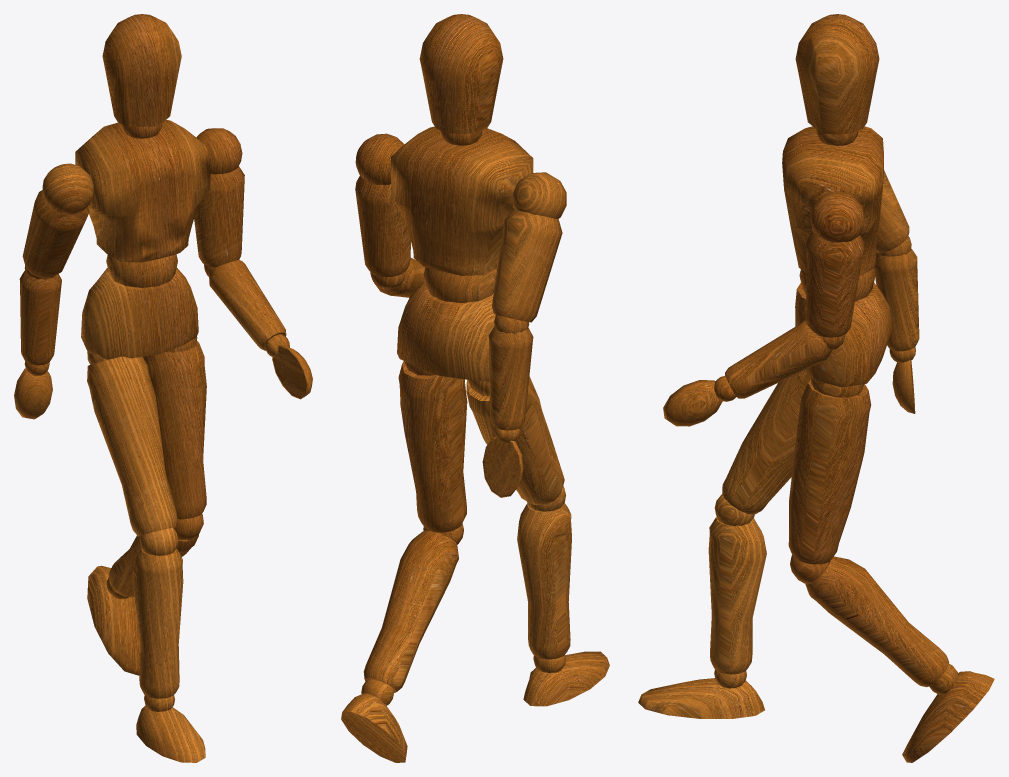
File: dummy_obj_8.obj
3 views of the same model, side by side, from view 1: azimuth 30°, elevation 25°; view 2: azimuth 150°, elevation 25°; view 3: azimuth 270°, elevation 25° (orthographic). The views are drawn at different scales.
Parts seen in each view (by area): view 1: dummy_hips3_dummy_belly_dummy_torso, dummy_hips3_dummy_lpelvis_dummy_lupleg, dummy_hips3, dummy_hips3_dummy_rpelvis_dummy_rupleg, dummy_hips3_dummy_belly_dummy_torso_dummy_neck_dummy_headq, dummy_hips3_dummy_lpelvis_dummy_lupleg_dummy_lknee_dummy_lleg, dummy_hips3_dummy_belly_dummy_torso_dummy_rshoulder_dummy_rarm, dummy_hips3_dummy_rpelvis_dummy_rupleg_dummy_rknee_dummy_rleg_d, dummy_hips3_dummy_belly_dummy_torso_dummy_rshoulder_dummy_r.001, dummy_hips3_dummy_belly_dummy_torso_dummy_lshoulder_dummy_larm, dummy_hips3_dummy_belly_dummy_torso_dummy_lshoulder_dummy_l.000, dummy_hips3_dummy_lpelvis_dummy_lupleg_dummy_lknee_dummy_ll.000 (+8 smaller); view 2: dummy_hips3_dummy_belly_dummy_torso, dummy_hips3_dummy_rpelvis_dummy_rupleg, dummy_hips3_dummy_belly_dummy_torso_dummy_neck_dummy_headq, dummy_hips3_dummy_rpelvis_dummy_rupleg_dummy_rknee_dummy_rleg, dummy_hips3, dummy_hips3_dummy_lpelvis_dummy_lupleg_dummy_lknee_dummy_lleg, dummy_hips3_dummy_belly_dummy_torso_dummy_lshoulder_dummy_larm, dummy_hips3_dummy_lpelvis_dummy_lupleg, dummy_hips3_dummy_belly_dummy_torso_dummy_rshoulder_dummy_rarm, dummy_hips3_dummy_belly_dummy_torso_dummy_lshoulder_dummy_l.000, dummy_hips3_dummy_lpelvis_dummy_lupleg_dummy_lknee_dummy_ll.000, dummy_hips3_dummy_rpelvis_dummy_rupleg_dummy_rknee_dummy_rleg_d (+7 smaller); view 3: dummy_hips3_dummy_rpelvis_dummy_rupleg, dummy_hips3_dummy_belly_dummy_torso, dummy_hips3_dummy_belly_dummy_torso_dummy_neck_dummy_headq, dummy_hips3_dummy_rpelvis_dummy_rupleg_dummy_rknee_dummy_rleg, dummy_hips3_dummy_lpelvis_dummy_lupleg_dummy_lknee_dummy_lleg, dummy_hips3_dummy_lpelvis_dummy_lupleg, dummy_hips3_dummy_belly_dummy_torso_dummy_rshoulder_dummy_rarm, dummy_hips3, dummy_hips3_dummy_belly_dummy_torso_dummy_rshoulder_dummy_r.001, dummy_hips3_dummy_lpelvis_dummy_lupleg_dummy_lknee_dummy_ll.000, dummy_hips3_dummy_rpelvis_dummy_rupleg_dummy_rknee_dummy_rleg_d, dummy_hips3_dummy_belly_dummy_torso_dummy_lshoulder_dummy_l.000 (+6 smaller).
Boxes of the visible parts, <box> form: dummy_hips3_dummy_belly_dummy_torso: <box>75,119,210,262</box>; dummy_hips3_dummy_lpelvis_dummy_lupleg: <box>87,356,177,536</box>; dummy_hips3: <box>81,267,198,359</box>; dummy_hips3_dummy_rpelvis_dummy_rupleg: <box>143,341,206,519</box>; dummy_hips3_dummy_belly_dummy_torso_dummy_neck_dummy_headq: <box>102,14,181,126</box>; dummy_hips3_dummy_lpelvis_dummy_lupleg_dummy_lknee_dummy_lleg: <box>132,548,183,698</box>; dummy_hips3_dummy_belly_dummy_torso_dummy_rshoulder_dummy_rarm: <box>194,166,244,267</box>; dummy_hips3_dummy_rpelvis_dummy_rupleg_dummy_rknee_dummy_rleg_d: <box>87,565,139,675</box>; dummy_hips3_dummy_belly_dummy_torso_dummy_rshoulder_dummy_r.001: <box>209,260,286,350</box>; dummy_hips3_dummy_belly_dummy_torso_dummy_lshoulder_dummy_larm: <box>22,190,89,278</box>; dummy_hips3_dummy_belly_dummy_torso_dummy_lshoulder_dummy_l.000: <box>19,270,61,365</box>; dummy_hips3_dummy_lpelvis_dummy_lupleg_dummy_lknee_dummy_ll.000: <box>136,705,205,762</box>; dummy_hips3_dummy_belly_dummy_torso: <box>391,126,533,275</box>; dummy_hips3_dummy_rpelvis_dummy_rupleg: <box>398,361,467,532</box>; dummy_hips3_dummy_belly_dummy_torso_dummy_neck_dummy_headq: <box>419,14,503,134</box>; dummy_hips3_dummy_rpelvis_dummy_rupleg_dummy_rknee_dummy_rleg: <box>363,530,458,692</box>; dummy_hips3: <box>397,281,495,381</box>; dummy_hips3_dummy_lpelvis_dummy_lupleg_dummy_lknee_dummy_lleg: <box>517,503,571,659</box>; dummy_hips3_dummy_belly_dummy_torso_dummy_lshoulder_dummy_larm: <box>492,209,562,322</box>; dummy_hips3_dummy_lpelvis_dummy_lupleg: <box>466,376,564,504</box>; dummy_hips3_dummy_belly_dummy_torso_dummy_rshoulder_dummy_rarm: <box>355,176,410,276</box>; dummy_hips3_dummy_belly_dummy_torso_dummy_lshoulder_dummy_l.000: <box>488,326,533,430</box>; dummy_hips3_dummy_lpelvis_dummy_lupleg_dummy_lknee_dummy_ll.000: <box>523,651,609,706</box>; dummy_hips3_dummy_rpelvis_dummy_rupleg_dummy_rknee_dummy_rleg_d: <box>341,693,407,762</box>; dummy_hips3_dummy_rpelvis_dummy_rupleg: <box>788,379,871,564</box>; dummy_hips3_dummy_belly_dummy_torso: <box>782,126,883,275</box>; dummy_hips3_dummy_belly_dummy_torso_dummy_neck_dummy_headq: <box>795,14,879,134</box>; dummy_hips3_dummy_rpelvis_dummy_rupleg_dummy_rknee_dummy_rleg: <box>805,556,949,687</box>; dummy_hips3_dummy_lpelvis_dummy_lupleg_dummy_lknee_dummy_lleg: <box>708,517,766,674</box>; dummy_hips3_dummy_lpelvis_dummy_lupleg: <box>722,370,810,514</box>; dummy_hips3_dummy_belly_dummy_torso_dummy_rshoulder_dummy_rarm: <box>806,231,864,337</box>; dummy_hips3: <box>795,282,892,387</box>; dummy_hips3_dummy_belly_dummy_torso_dummy_rshoulder_dummy_r.001: <box>725,320,832,398</box>; dummy_hips3_dummy_lpelvis_dummy_lupleg_dummy_lknee_dummy_ll.000: <box>638,678,764,718</box>; dummy_hips3_dummy_rpelvis_dummy_rupleg_dummy_rknee_dummy_rleg_d: <box>902,671,994,762</box>; dummy_hips3_dummy_belly_dummy_torso_dummy_lshoulder_dummy_l.000: <box>874,248,919,351</box>.
Size of the model in its own units: 52.56 by 176 by 78.11.
1 material, 1 textured.
